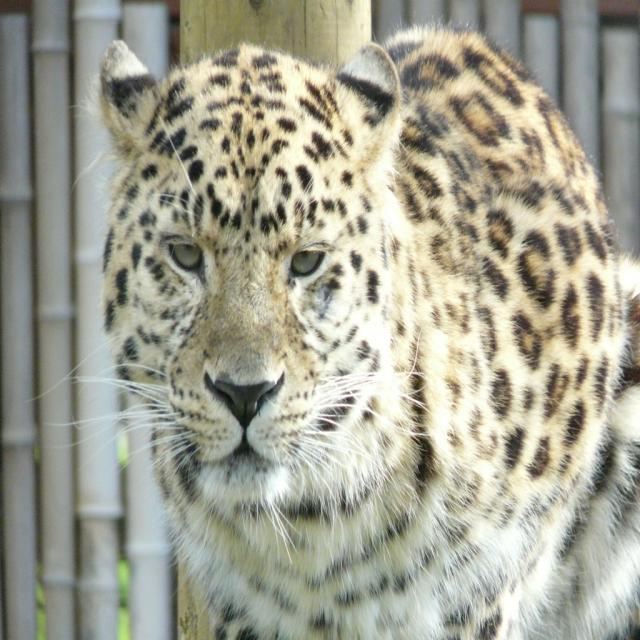Cheetah: (32, 13, 640, 640)
